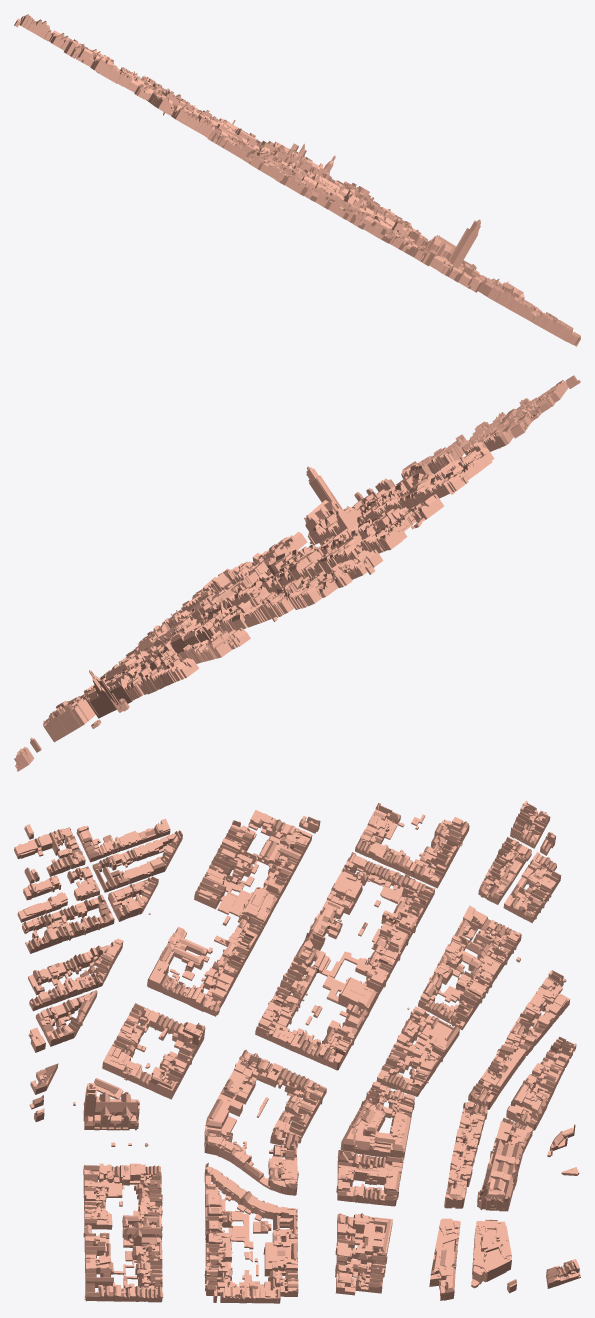
3 renders of one model, top to bottom at view 1: azimuth 30°, elevation 25°; view 2: azimuth 150°, elevation 25°; view 3: azimuth 270°, elevation 25°, orthographic. The views are drawn at different scales.
Size of the model in its own units: 1.74e+07 by 1.29e+07 by 2.09e+07.
